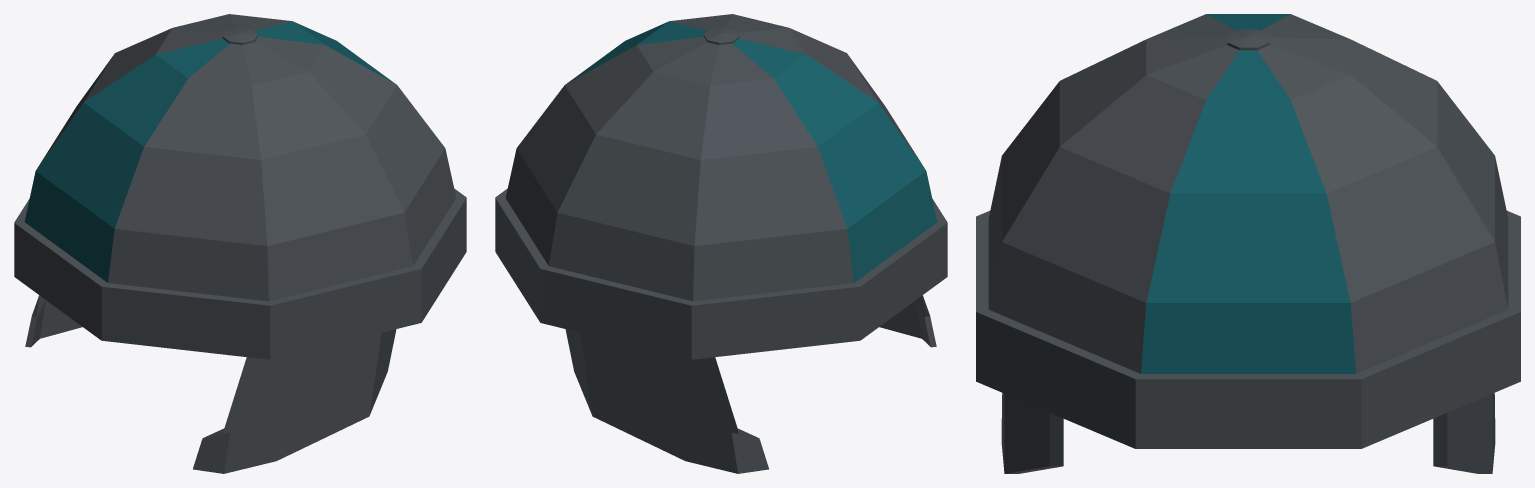
Rendered from helmet_1.glb.
3 renders of one model, left to right at view 1: azimuth 30°, elevation 25°; view 2: azimuth 150°, elevation 25°; view 3: azimuth 270°, elevation 25°, orthographic. The views are drawn at different scales.
Parts seen in each view (by area): view 1: Sphere, Cylinder2.001, Cube, Cylinder; view 2: Sphere, Cylinder2.001, Cube, Cylinder; view 3: Sphere, Cylinder2.001, Cube, Cylinder.
Boxes of the visible parts, x1,y1,x2,y2 form: Sphere: [24, 14, 456, 301]; Cylinder2.001: [14, 188, 466, 359]; Cube: [25, 295, 396, 473]; Cylinder: [222, 28, 258, 44]; Sphere: [505, 14, 937, 301]; Cylinder2.001: [495, 188, 947, 359]; Cube: [565, 295, 936, 473]; Cylinder: [703, 28, 739, 44]; Sphere: [988, 14, 1508, 373]; Cylinder2.001: [976, 210, 1520, 448]; Cube: [1001, 393, 1495, 473]; Cylinder: [1227, 29, 1269, 50].
Bounding box in the file's own units: 0.5657 × 0.5089 × 0.5657.
